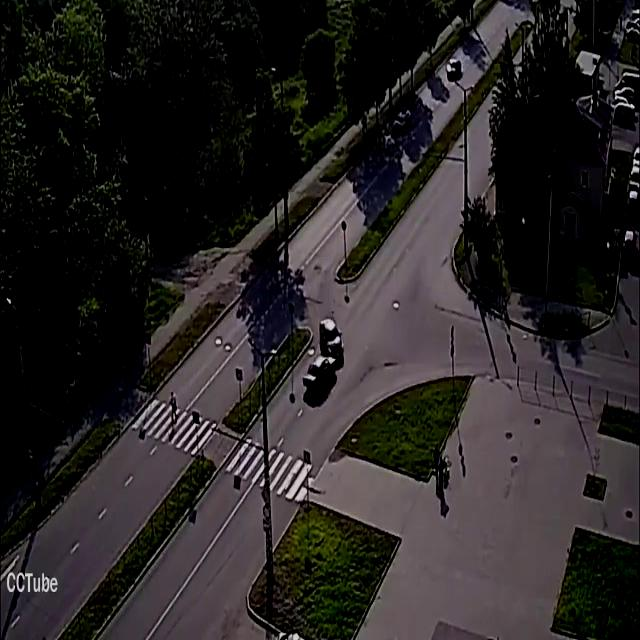accident: (302, 318, 343, 392)
non-accident: (608, 66, 640, 134)
